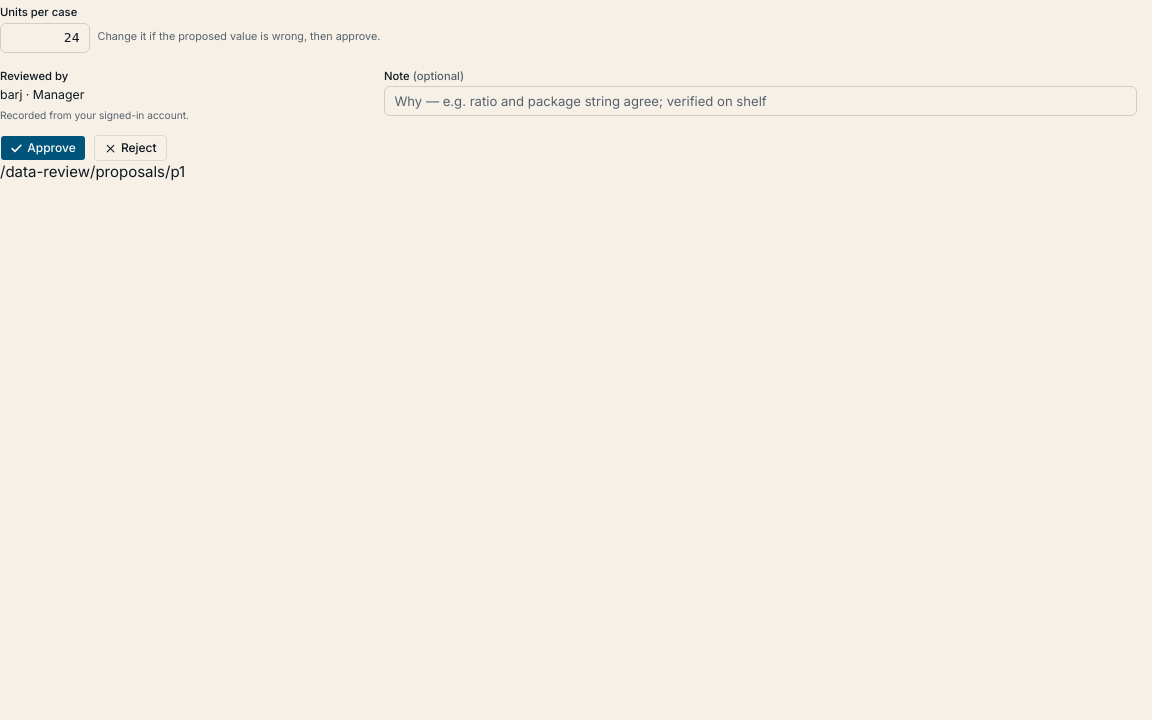
DecisionPanel — units per case › saves a changed value as a revision and approves the revision
This screenshot has width=1152, height=720.
Replace the text in the field with test id "decision-units" with "12" at (45,38), box [0,22,90,52]
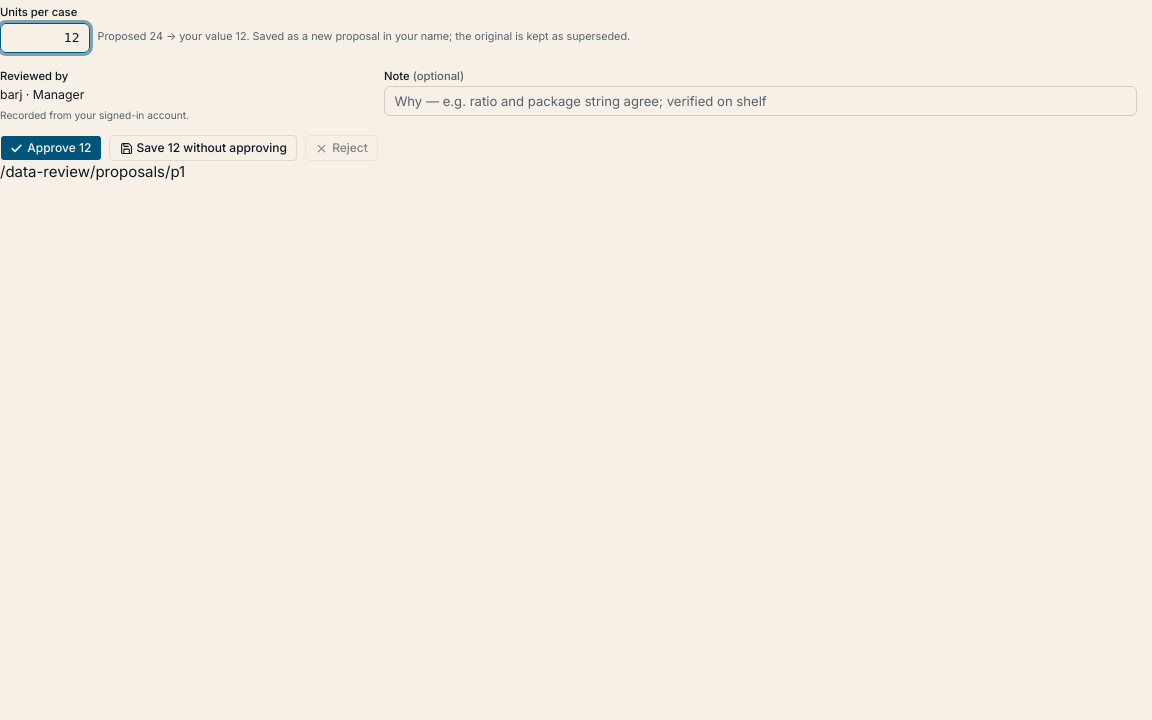
Expected: the text with test id "decision-units-changed" shows "Proposed 24 → your value 12", [98,29,630,46]
Expected: the button "Reject" is disabled, [305,135,378,161]
Click the button with test id "decision-approve" at (51,148), box [0,135,102,161]
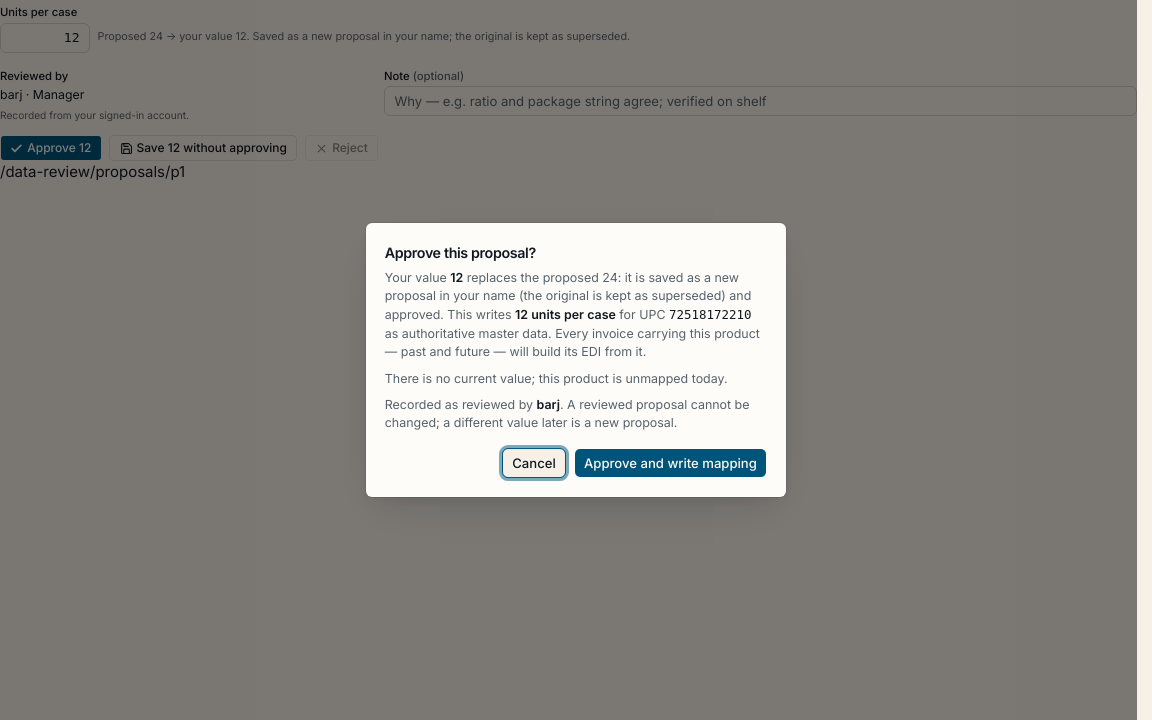
Expected: the dialog shows "Your value 12 replaces the proposed 24", [366,223,786,497]
Click the button "Approve and write mapping" at (670,463), box [574,448,767,478]
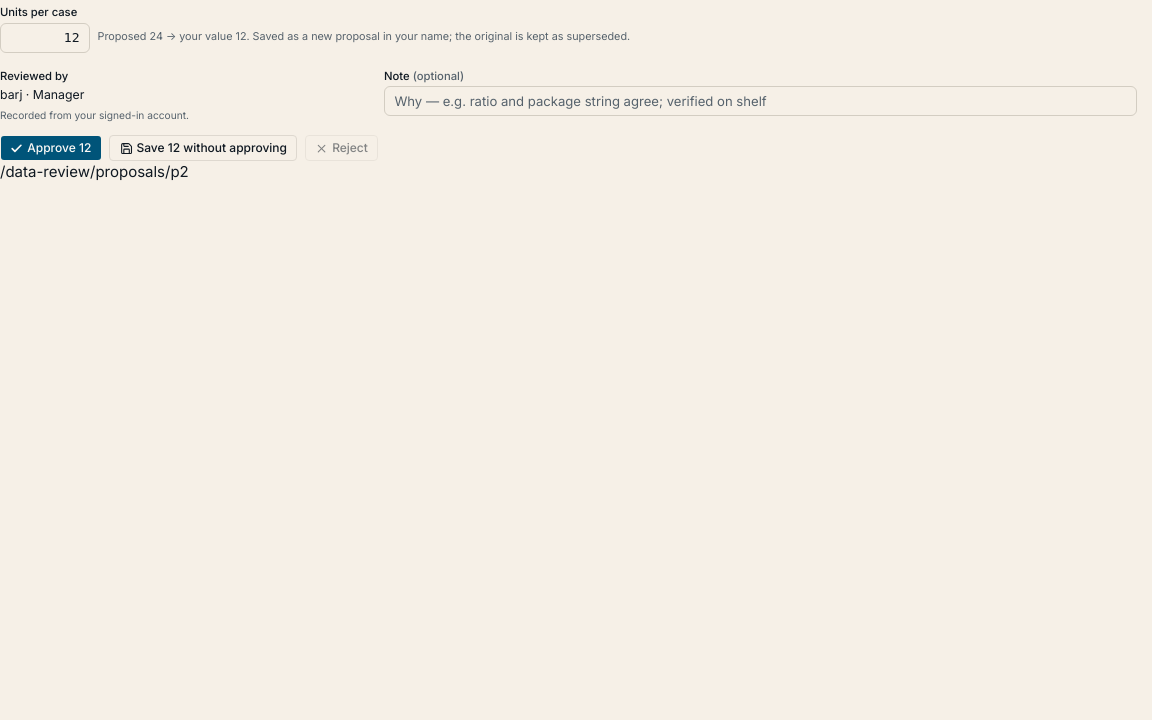
Expected: the text with test id "where" reads "/data-review/proposals/p2", [0,162,189,181]
